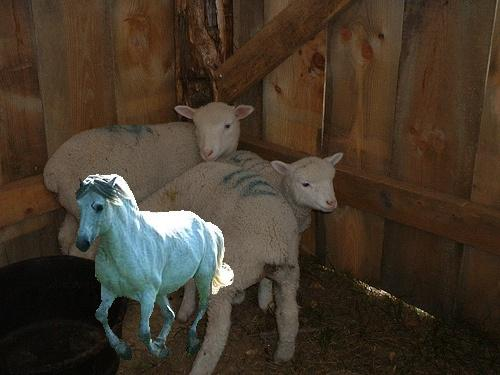tampered: (76, 175, 234, 360)
